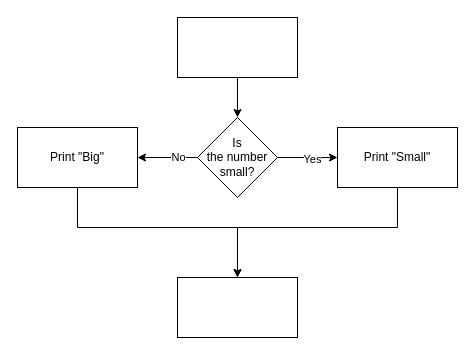
Some shapes in this 475 by 355 pixel diagram are drawn without their labels. Here are the shapes that lost their labels. From the top down, the centre of each, then its label:
(x=237, y=47): Get a number from user and store in a variable called input
(x=237, y=307): Print "Done"
